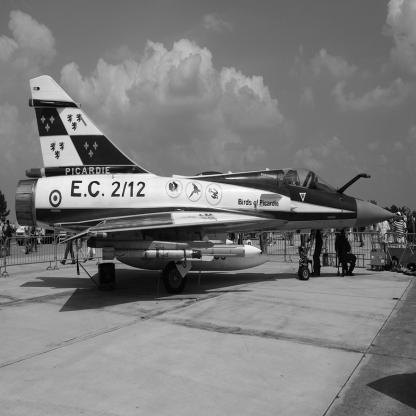Mirage2000: (16, 75, 407, 294)
